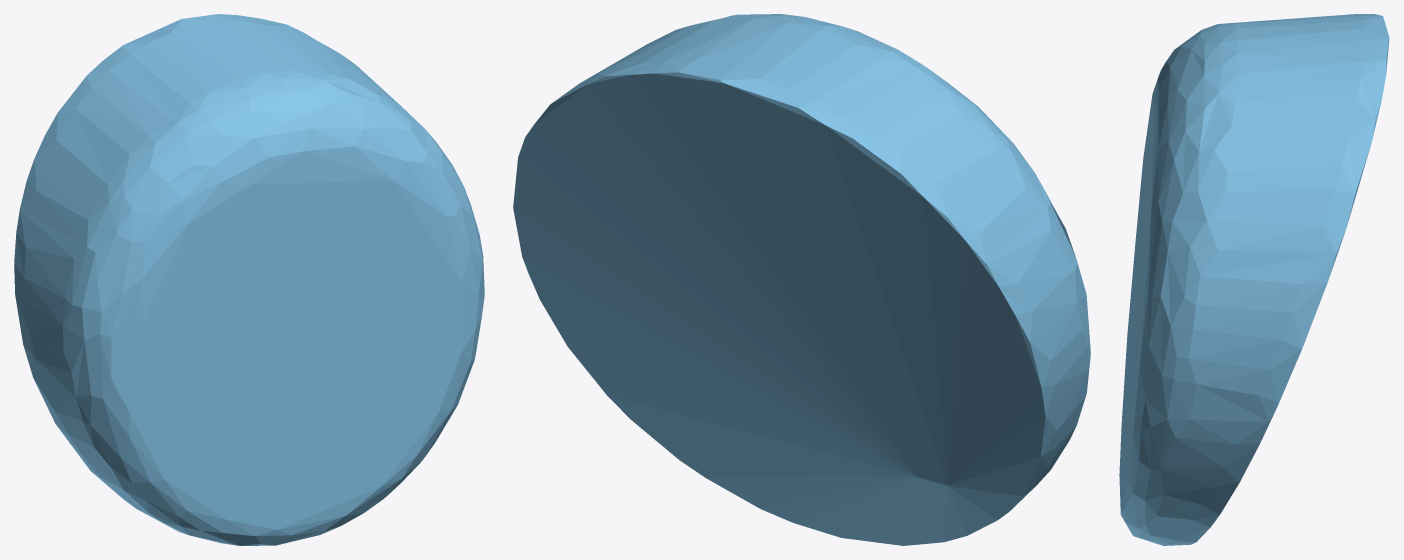
The model's file is ur3_link2_visible_vis_2.dae.
The picture shows the model from 3 angles, left to right: view 1: azimuth 30°, elevation 25°; view 2: azimuth 150°, elevation 25°; view 3: azimuth 270°, elevation 25°; orthographic projection. The views are drawn at different scales.
Visible parts, largest first — view 1: Node_000002223FC9C980; view 2: Node_000002223FC9C980; view 3: Node_000002223FC9C980.
Boxes of the visible parts, box(x1,y1,x2,y2) form: Node_000002223FC9C980: box(14, 14, 484, 545); Node_000002223FC9C980: box(513, 14, 1090, 545); Node_000002223FC9C980: box(1119, 14, 1389, 545).
Bounding box in the file's own units: 0.092 × 0.0921 × 0.0467.
